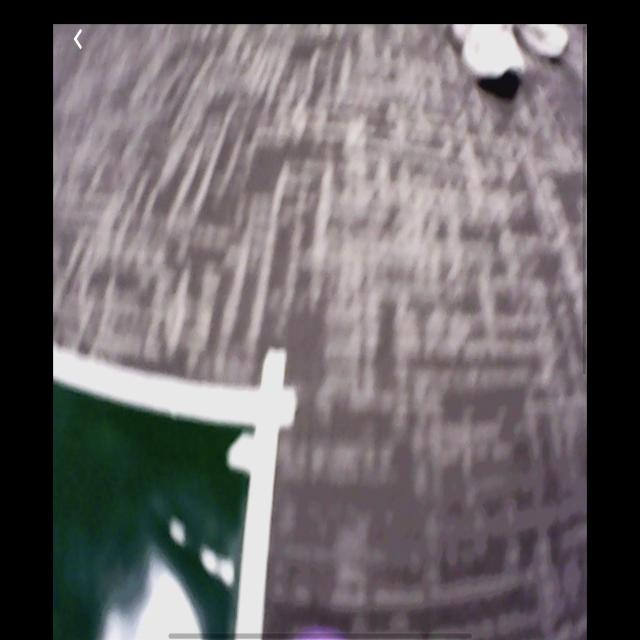ball: (289, 618, 359, 640)
